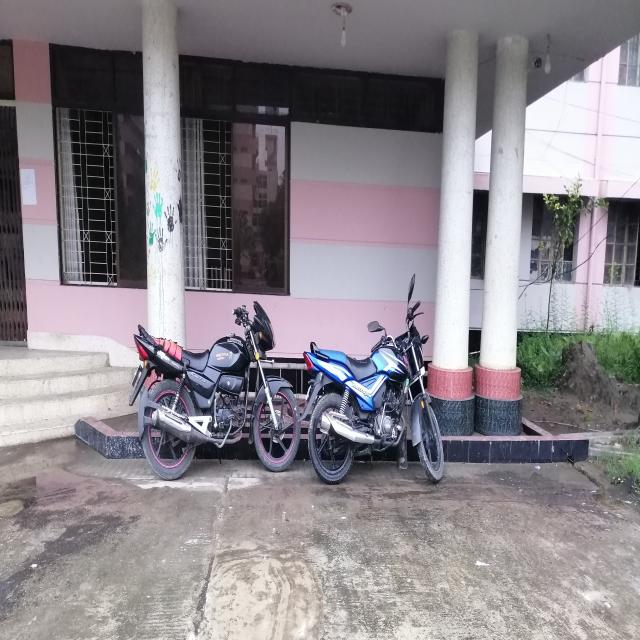Motorbike: (109, 281, 306, 488), (303, 266, 456, 511)
